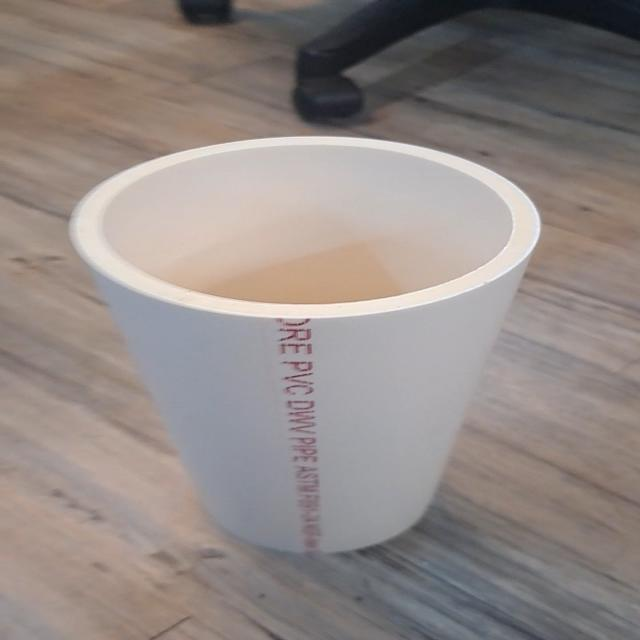CORAL: (54, 130, 554, 557)
